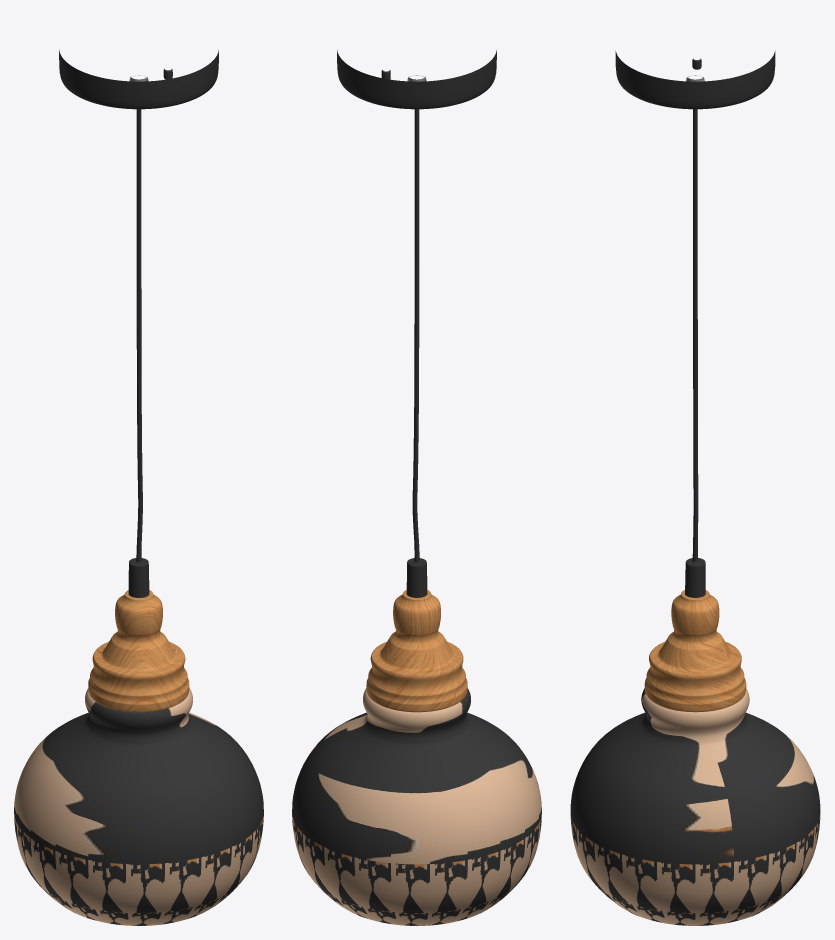
File: B071VR5JSP.glb
3 renders of one model, left to right at view 1: azimuth 30°, elevation 25°; view 2: azimuth 150°, elevation 25°; view 3: azimuth 270°, elevation 25°, orthographic.
Parts seen in each view (by area): view 1: "$AHGHBCBNCPBAAAAAICBAAAAAAAAAOHGBPGGC"; view 2: "$AHGHBCBNCPBAAAAAICBAAAAAAAAAOHGBPGGC"; view 3: "$AHGHBCBNCPBAAAAAICBAAAAAAAAAOHGBPGGC".
Part boxes in pixels (x1,y1,x2,y2): "$AHGHBCBNCPBAAAAAICBAAAAAAAAAOHGBPGGC": (14, 50, 263, 925); "$AHGHBCBNCPBAAAAAICBAAAAAAAAAOHGBPGGC": (292, 50, 541, 925); "$AHGHBCBNCPBAAAAAICBAAAAAAAAAOHGBPGGC": (570, 51, 820, 925).
Size of the model in its own units: 0.4298 by 1.61 by 0.4298.
1 material, 1 textured.
